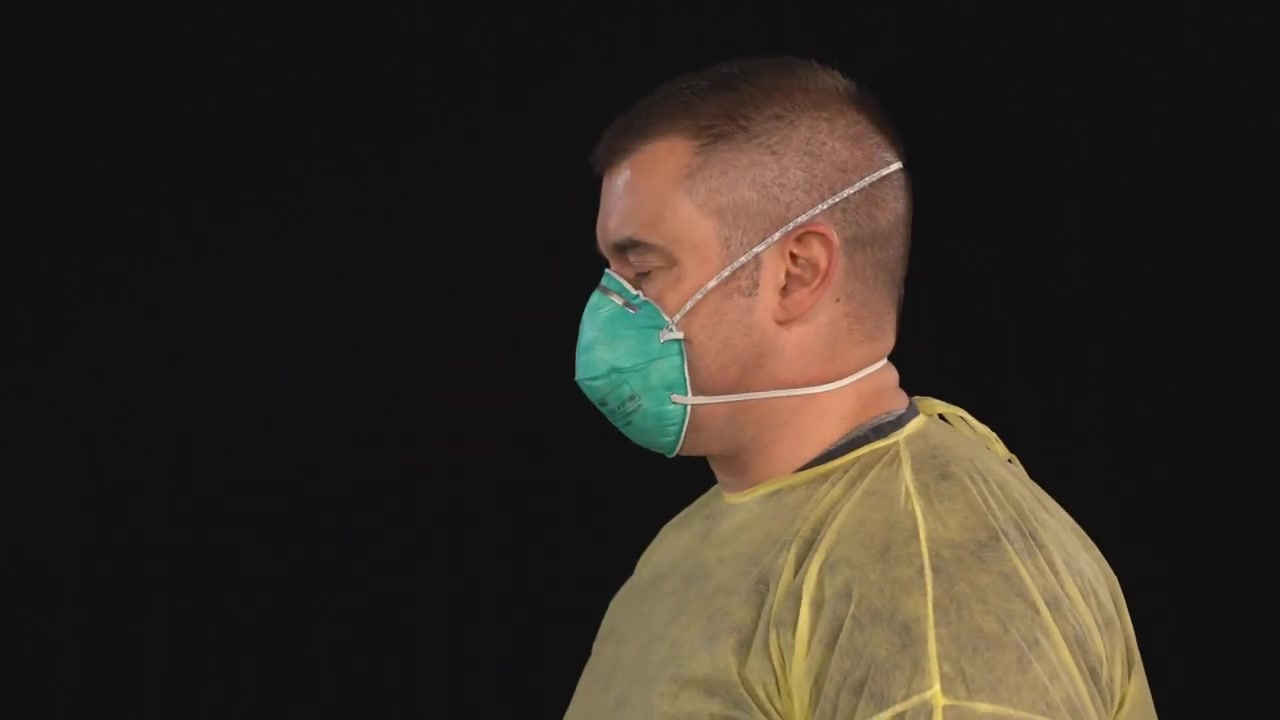Coverall: (528, 442, 1165, 714)
with_mask: (571, 239, 688, 457)
